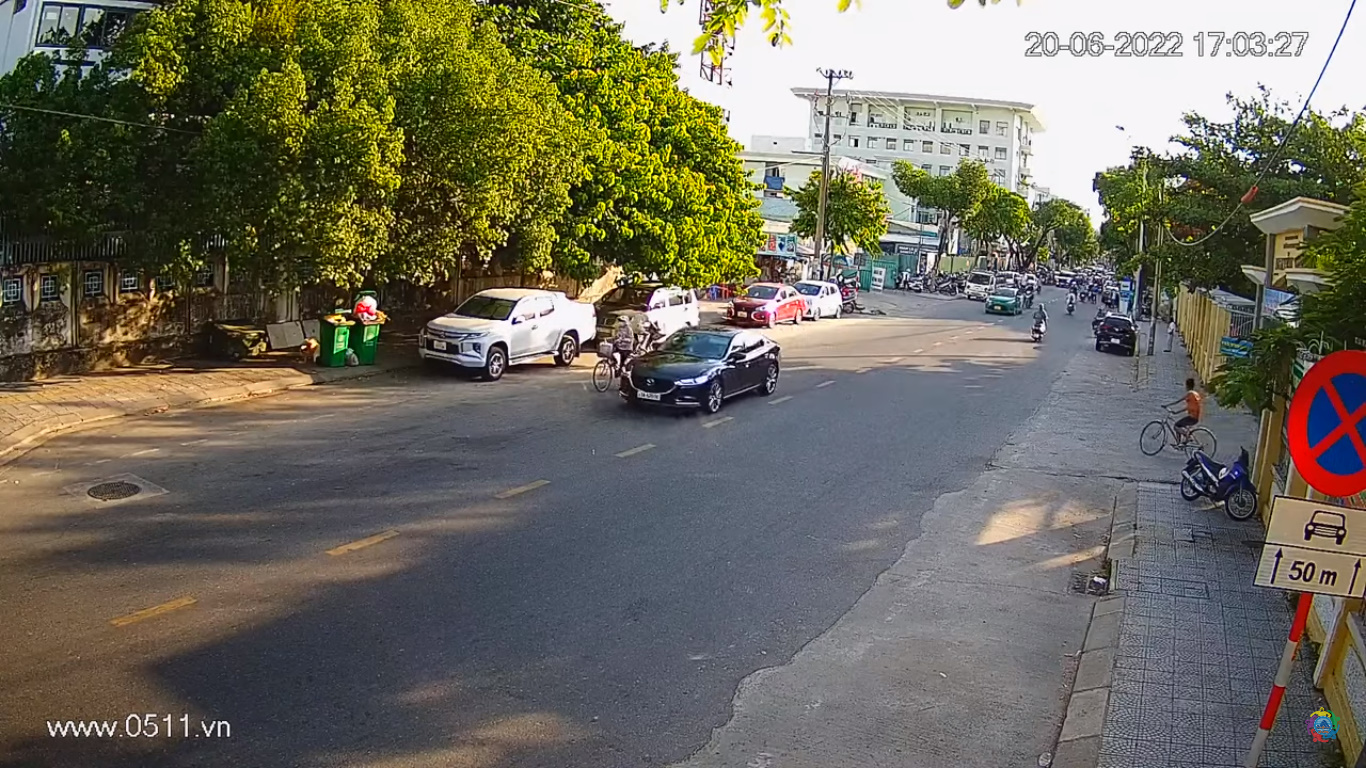car: (625, 325, 785, 423)
